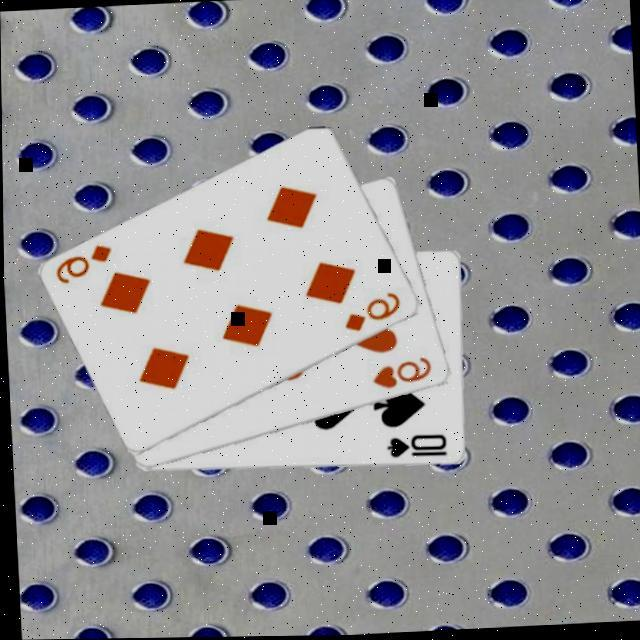10S: (379, 431, 446, 462)
6D: (337, 288, 402, 335), (48, 240, 114, 286)
6H: (366, 353, 432, 393)
